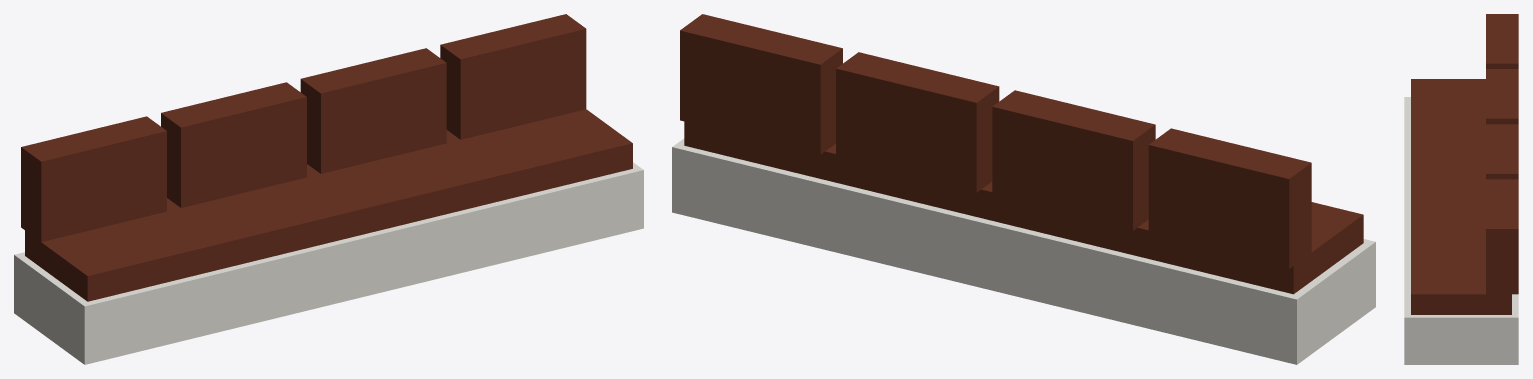
File: cushioned_bench.glb
3 renders of one model, left to right at view 1: azimuth 30°, elevation 25°; view 2: azimuth 150°, elevation 25°; view 3: azimuth 270°, elevation 25°, orthographic. The views are drawn at different scales.
Visible parts, largest first — view 1: cushioned_bench; view 2: cushioned_bench; view 3: cushioned_bench.
Part boxes in pixels (x1,y1,x2,y2): cushioned_bench: [14, 14, 643, 364]; cushioned_bench: [672, 14, 1375, 364]; cushioned_bench: [1404, 14, 1518, 364].
Size of the model in its own units: 3.2 by 0.9 by 0.7.
